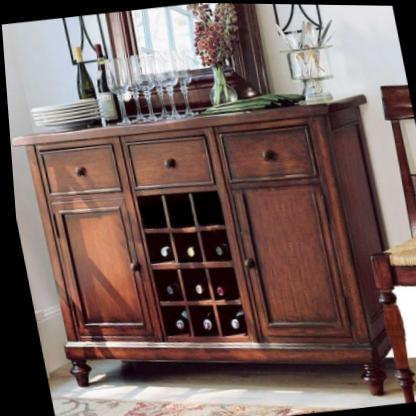Cupboard: (13, 96, 387, 388)
